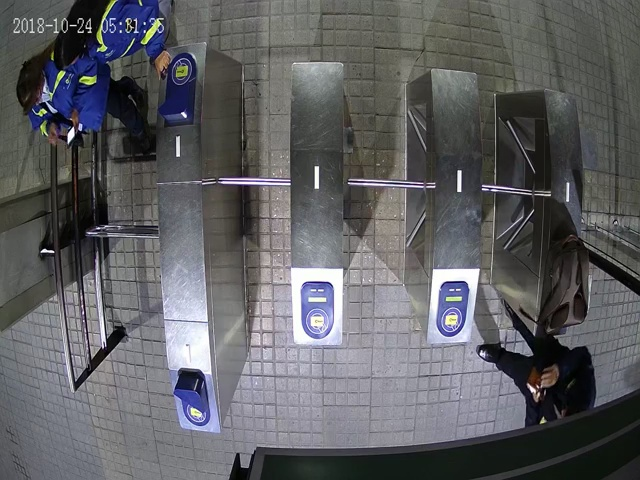Chaleco_azul: (16, 47, 149, 144), (53, 1, 172, 74)
